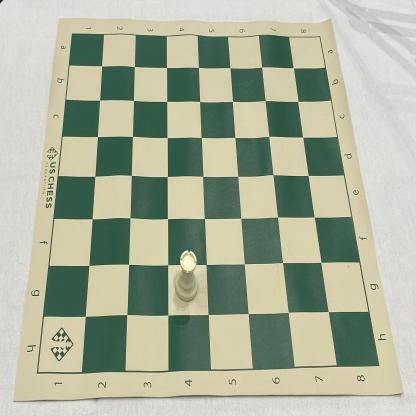white-rook: (174, 250, 199, 303)
